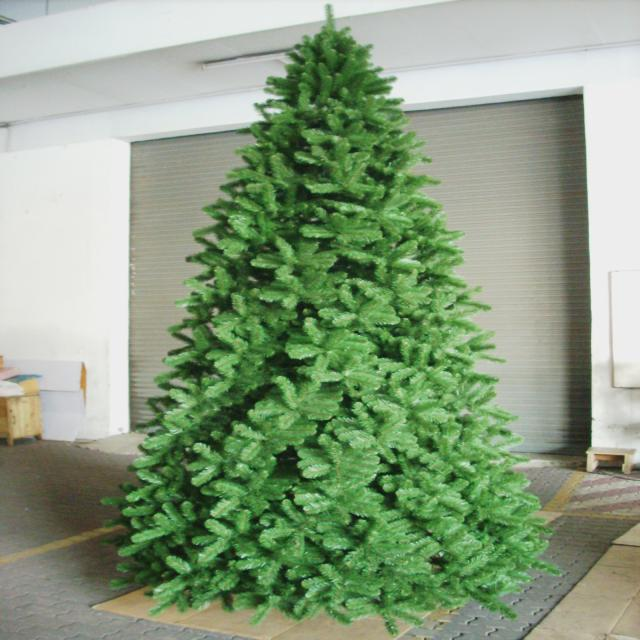Christmas-tree: (56, 2, 573, 630)
